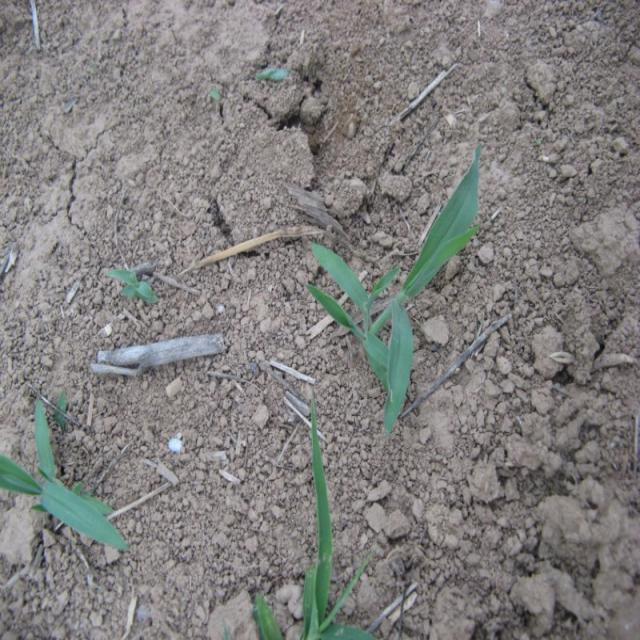bg: (308, 154, 484, 432)
